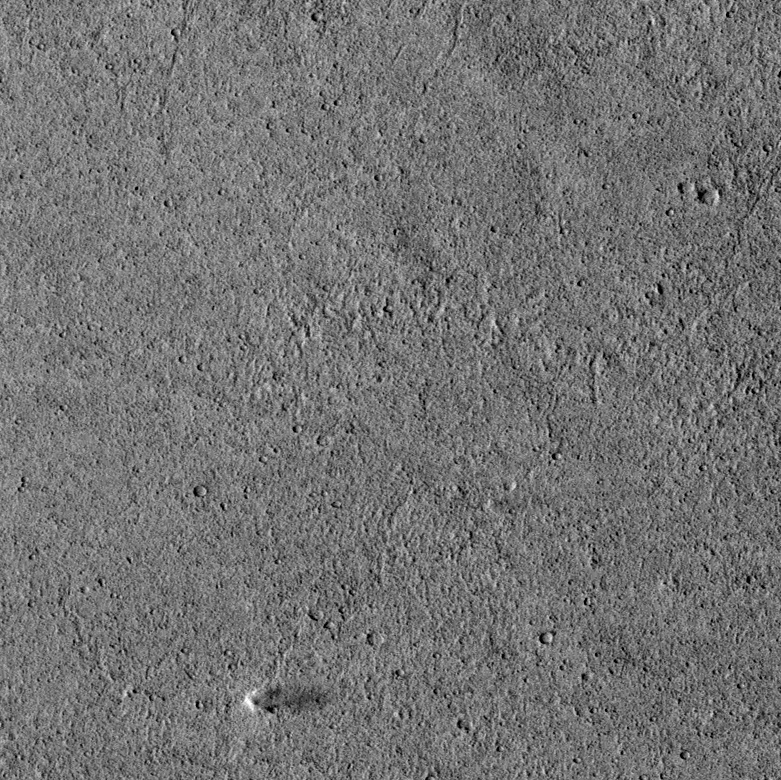dust_devil: (240, 682, 331, 715)
